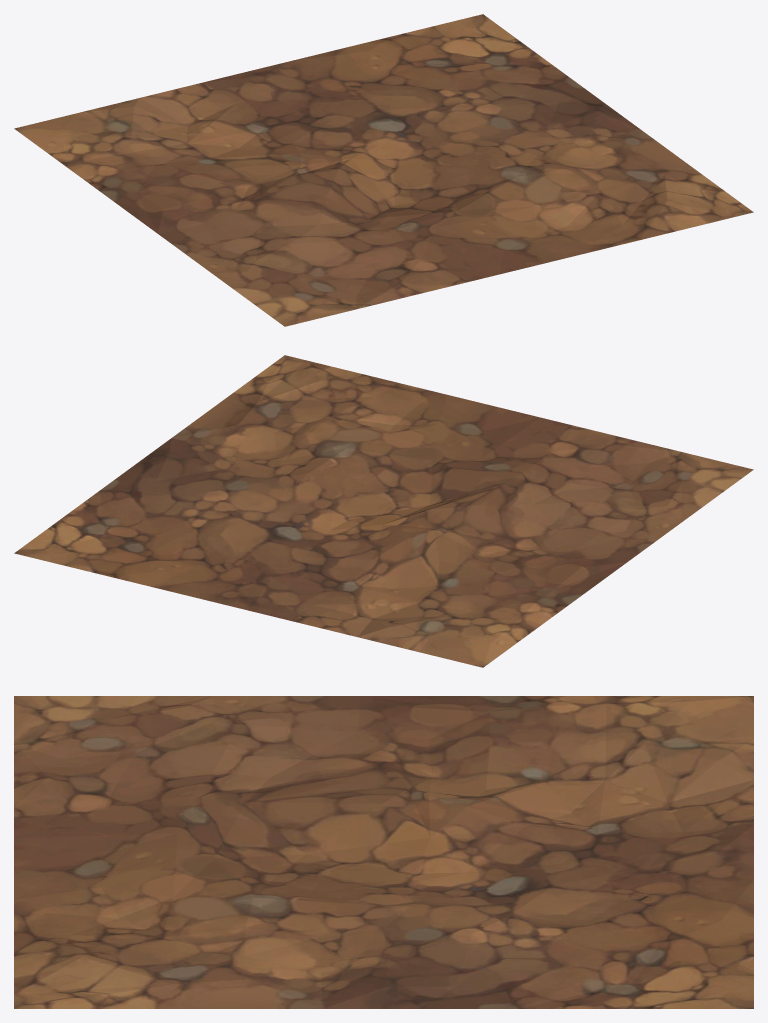
The model's file is Ground_04.fbx.
The picture shows the model from 3 angles, top to bottom: view 1: azimuth 30°, elevation 25°; view 2: azimuth 150°, elevation 25°; view 3: azimuth 270°, elevation 25°; orthographic projection. The views are drawn at different scales.
Parts seen in each view (by area): view 1: Ground_04_c; view 2: Ground_04_c; view 3: Ground_04_c.
Part boxes in pixels (x1,y1,x2,y2): Ground_04_c: [14, 14, 753, 326]; Ground_04_c: [14, 355, 753, 667]; Ground_04_c: [14, 696, 753, 1008].
Size of the model in its own units: 200 by 9.33 by 200.
